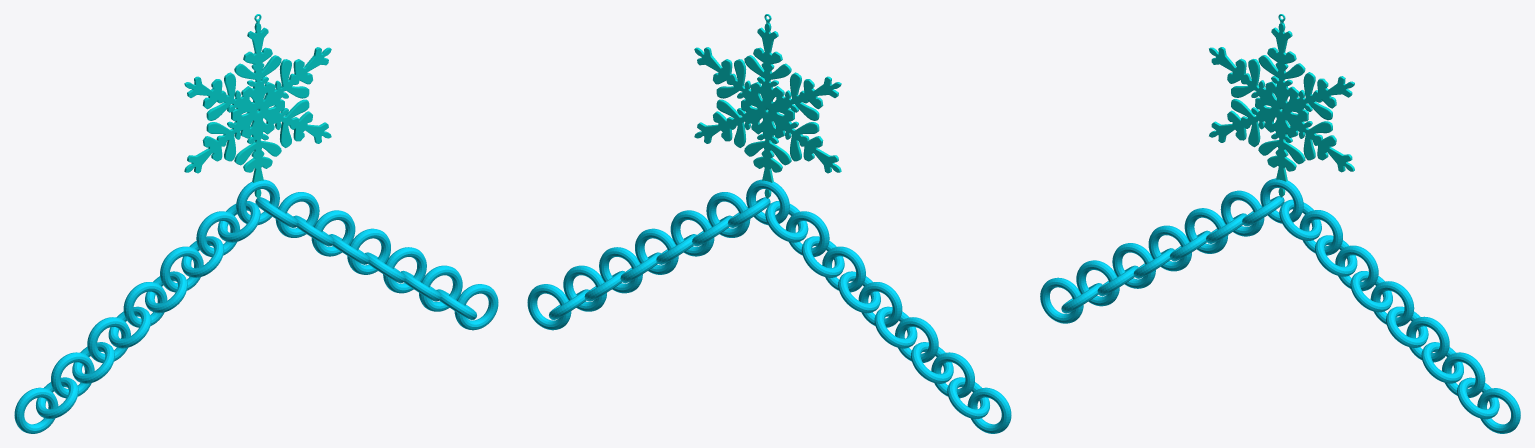
File: Snowflake_necklace.fbx
The picture shows the model from 3 angles, left to right: view 1: azimuth 30°, elevation 25°; view 2: azimuth 150°, elevation 25°; view 3: azimuth 330°, elevation 25°; orthographic projection.
Parts seen in each view (by area): view 1: Snowflake_dendrites_shaped, Torus.024, Torus.012, Torus.004, Torus.003, Torus.008, Torus.018, Torus.010, Torus.014, Torus.016, Torus.006, Torus.020 (+14 smaller); view 2: Snowflake_dendrites_shaped, Torus.024, Torus.012, Torus.004, Torus.003, Torus.008, Torus.018, Torus.010, Torus.014, Torus.016, Torus.006, Torus.020 (+14 smaller); view 3: Snowflake_dendrites_shaped, Torus.024, Torus.012, Torus.018, Torus.004, Torus.006, Torus.014, Torus.016, Torus.020, Torus.008, Torus.022, Torus.003 (+14 smaller).
Part boxes in pixels (left/top/right/bottom): Snowflake_dendrites_shaped: left=184, top=14, right=331, bottom=198; Torus.024: left=14, top=387, right=58, bottom=433; Torus.012: left=454, top=284, right=498, bottom=330; Torus.004: left=311, top=210, right=355, bottom=256; Torus.003: left=275, top=192, right=319, bottom=237; Torus.008: left=383, top=247, right=426, bottom=293; Torus.018: left=123, top=282, right=167, bottom=327; Torus.010: left=419, top=265, right=462, bottom=311; Torus.014: left=196, top=211, right=240, bottom=257; Torus.016: left=160, top=246, right=203, bottom=292; Torus.006: left=347, top=228, right=390, bottom=274; Torus.020: left=87, top=317, right=130, bottom=362; Snowflake_dendrites_shaped: left=694, top=14, right=841, bottom=198; Torus.024: left=967, top=387, right=1011, bottom=433; Torus.012: left=527, top=284, right=571, bottom=330; Torus.004: left=670, top=210, right=714, bottom=256; Torus.003: left=706, top=192, right=750, bottom=237; Torus.008: left=599, top=247, right=642, bottom=293; Torus.018: left=858, top=282, right=902, bottom=327; Torus.010: left=563, top=265, right=606, bottom=311; Torus.014: left=785, top=211, right=829, bottom=257; Torus.016: left=822, top=246, right=865, bottom=292; Torus.006: left=635, top=228, right=678, bottom=274; Torus.020: left=895, top=317, right=938, bottom=362; Snowflake_dendrites_shaped: left=1209, top=14, right=1354, bottom=197; Torus.024: left=1040, top=277, right=1083, bottom=323; Torus.012: left=1477, top=388, right=1520, bottom=433; Torus.018: left=1148, top=225, right=1191, bottom=271; Torus.004: left=1335, top=245, right=1378, bottom=291; Torus.006: left=1370, top=281, right=1414, bottom=326; Torus.014: left=1220, top=190, right=1264, bottom=236; Torus.016: left=1184, top=208, right=1228, bottom=253; Torus.020: left=1112, top=243, right=1155, bottom=288; Torus.008: left=1406, top=316, right=1449, bottom=362; Torus.022: left=1076, top=260, right=1119, bottom=306; Torus.003: left=1299, top=210, right=1342, bottom=255.
Bounding box in the file's own units: 1141 × 832 × 100.
